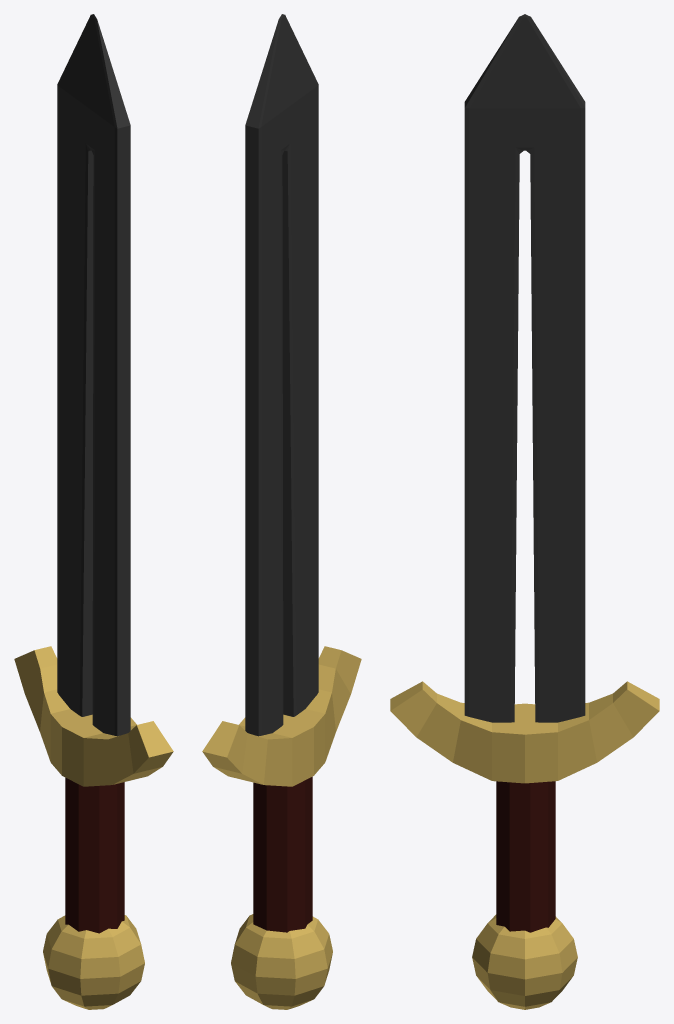
File: Sword.obj
3 views of the same model, side by side, from view 1: azimuth 30°, elevation 25°; view 2: azimuth 150°, elevation 25°; view 3: azimuth 270°, elevation 25° (orthographic).
Parts seen in each view (by area): view 1: Cone, Cube, Cylinder, Sphere; view 2: Cone, Cube, Cylinder, Sphere; view 3: Cone, Cube, Cylinder, Sphere.
Boxes of the visible parts, x1=… form: Cone: x1=57, y1=14, x2=130, y2=736; Cube: x1=14, y1=646, x2=173, y2=786; Cylinder: x1=65, y1=777, x2=124, y2=933; Sphere: x1=43, y1=915, x2=144, y2=1009; Cone: x1=245, y1=14, x2=318, y2=736; Cube: x1=202, y1=646, x2=361, y2=786; Cylinder: x1=253, y1=776, x2=312, y2=932; Sphere: x1=231, y1=914, x2=332, y2=1009; Cone: x1=464, y1=14, x2=585, y2=722; Cube: x1=390, y1=681, x2=659, y2=783; Cylinder: x1=496, y1=781, x2=555, y2=932; Sphere: x1=472, y1=914, x2=577, y2=1009.
Size of the model in its own units: 1.66 by 17.18 by 4.23.
